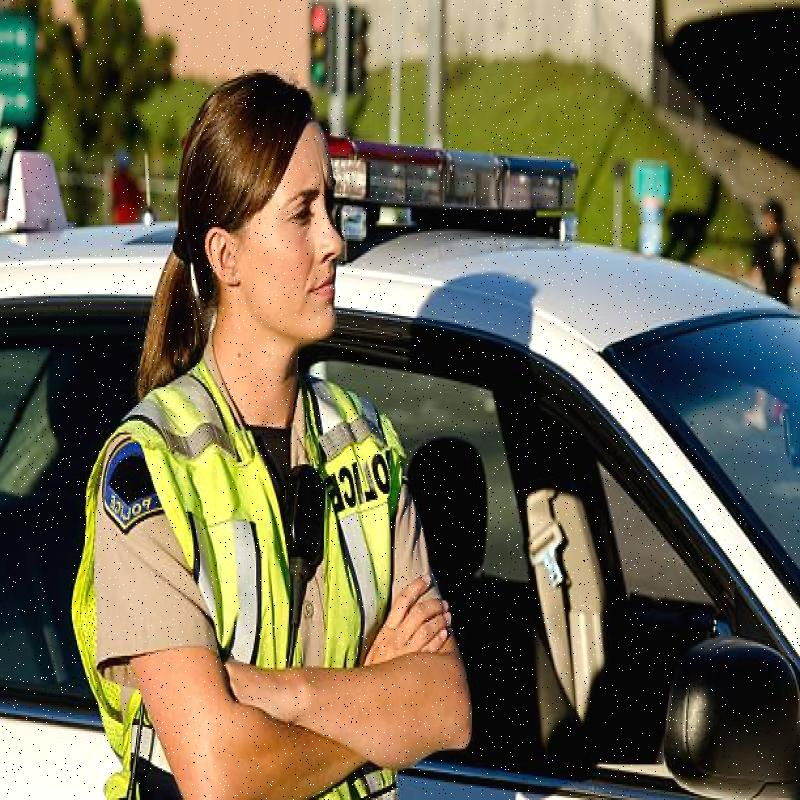AmbulanceSiren: (325, 133, 584, 233)
